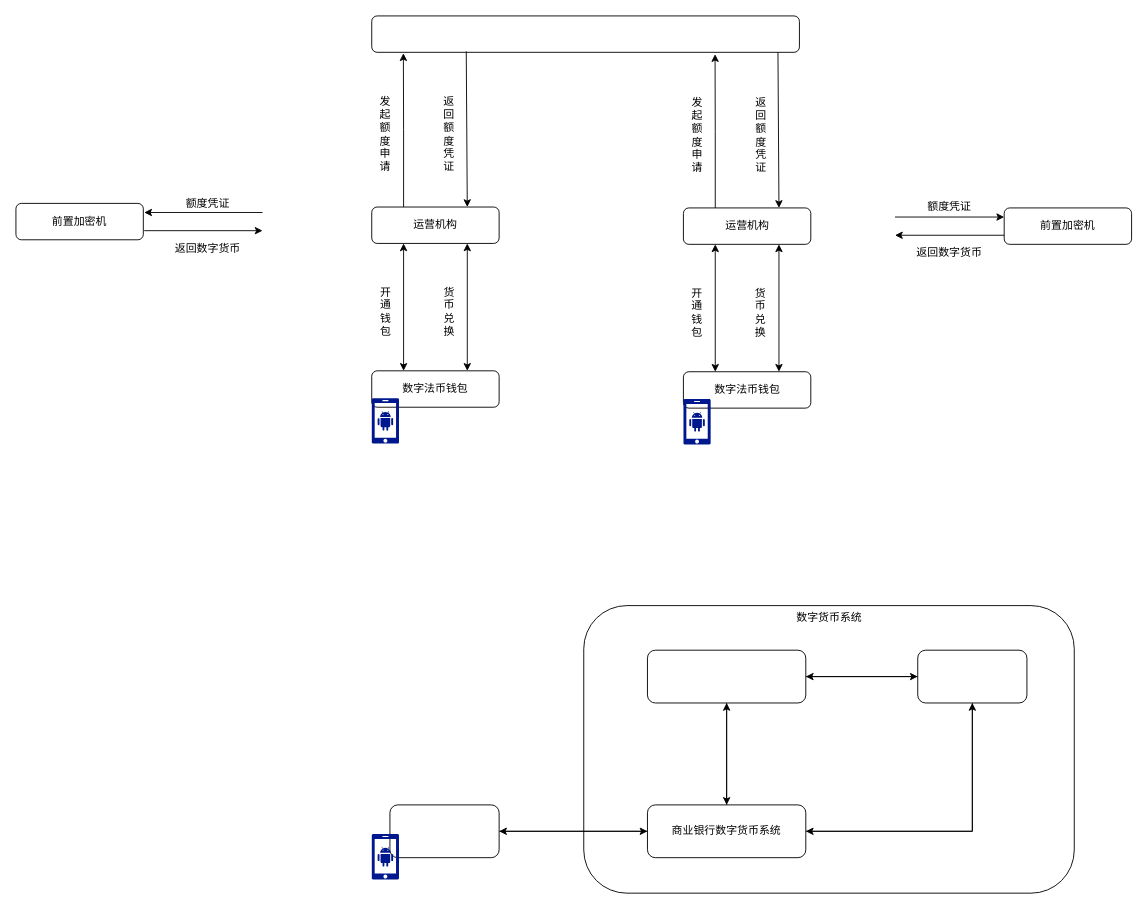
The diagram is 1148 pixels wide and 909 high, and some of its shapes have lost their labels. Each missing label, with the box of its shape:
中央银行: (371, 15, 799, 52)
中央银行数字货币系统: (647, 649, 806, 703)
数字货币钱包: (389, 804, 499, 858)
认证系统: (917, 649, 1027, 703)
